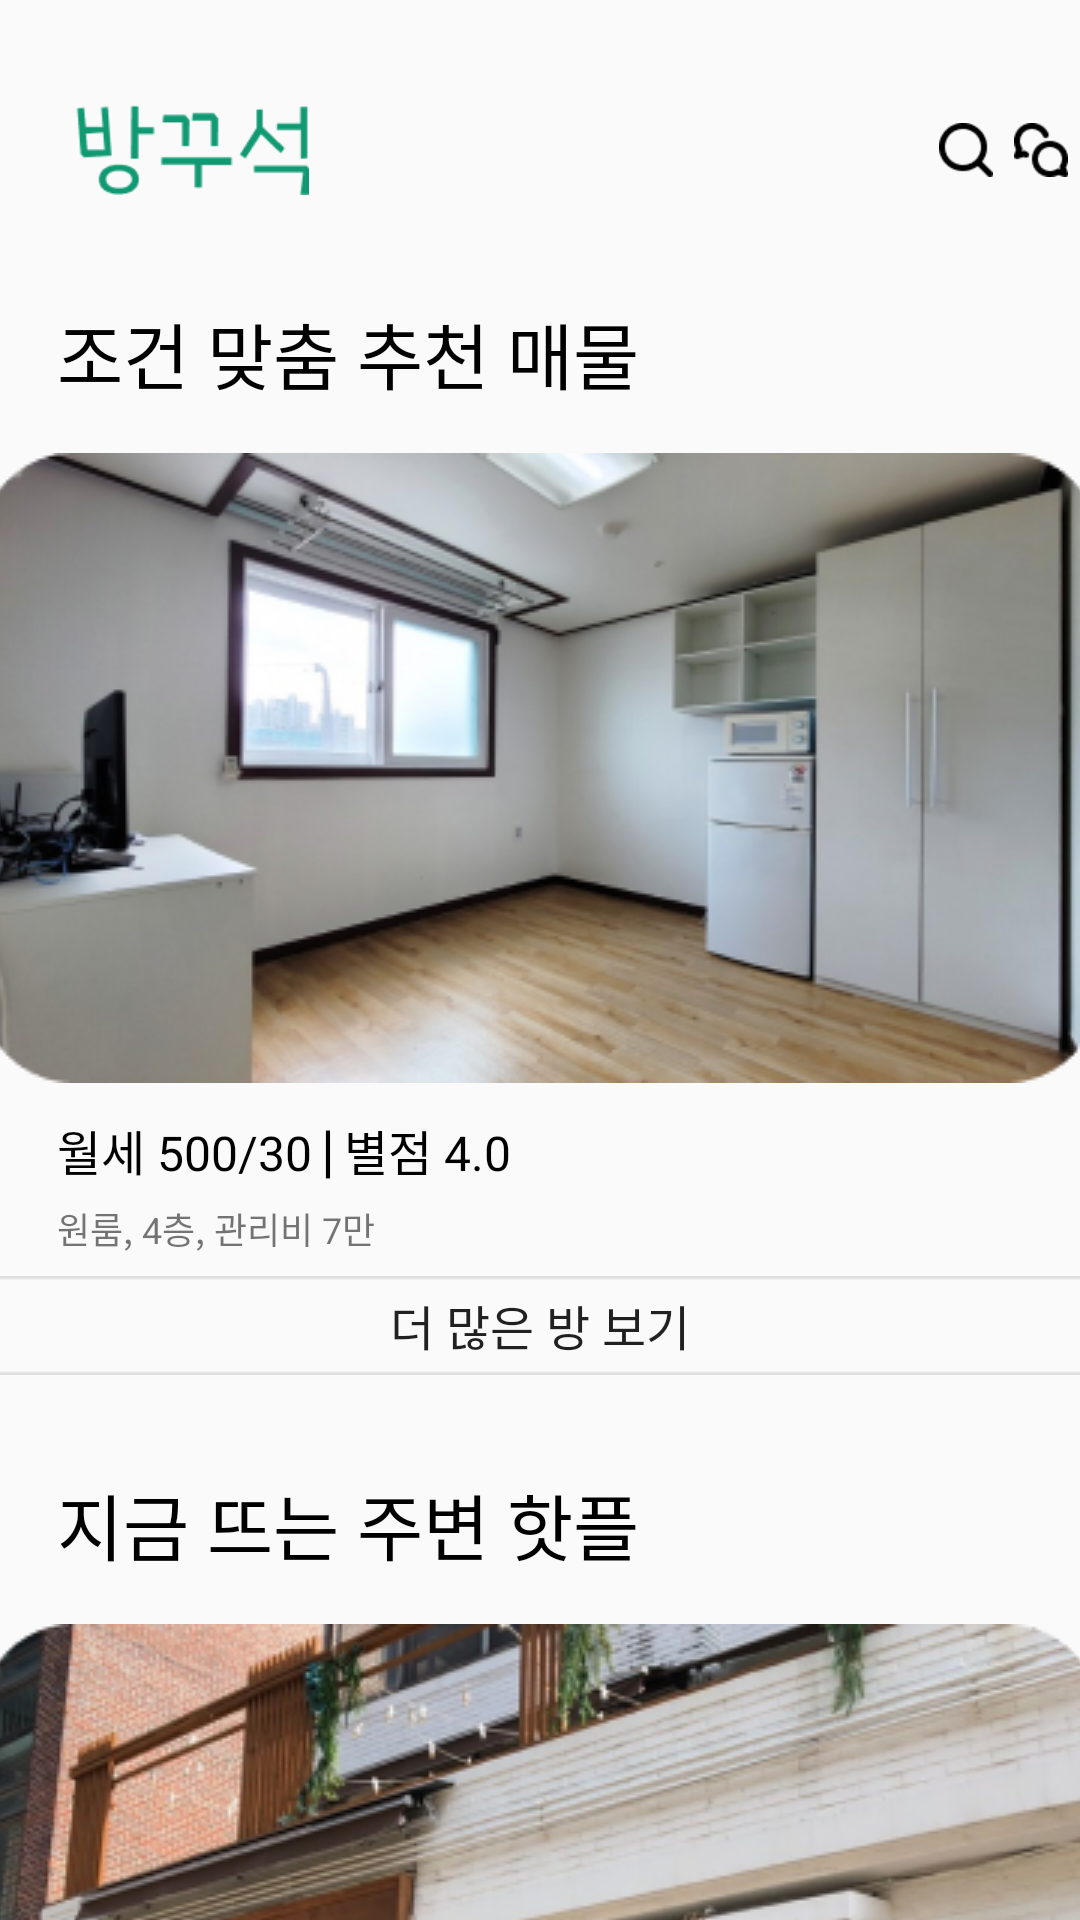

Where to tap for icons on this 1080x1920 app screen, as (x,y):
chat: (1041,150)
search: (966,150)
